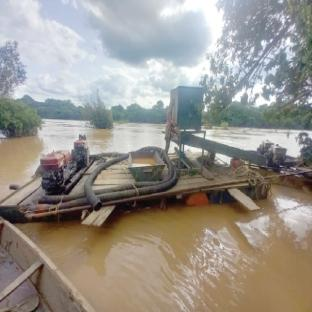ProcessingEquipment: (1, 81, 275, 230)
